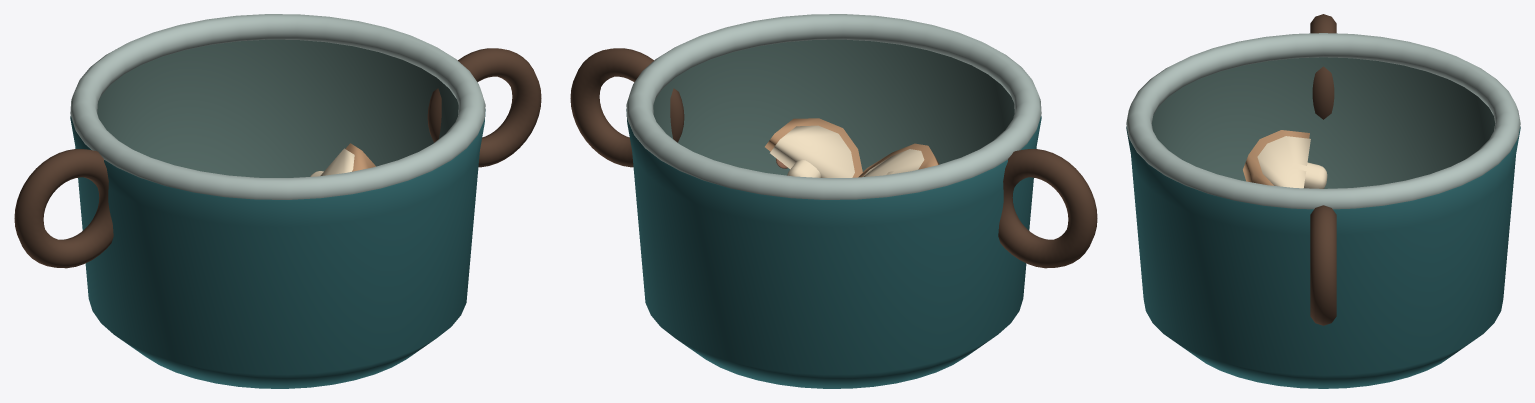
File: pot-mushroom.obj
The picture shows the model from 3 angles, left to right: view 1: azimuth 30°, elevation 25°; view 2: azimuth 150°, elevation 25°; view 3: azimuth 270°, elevation 25°; orthographic projection. The views are drawn at different scales.
Visible parts, largest first — view 1: pot-mushroom_teal, pot-mushroom_darkMetal, pot-mushroom_metal, pot-mushroom_cocoa, pot-mushroom_mushroomFlesh; view 2: pot-mushroom_teal, pot-mushroom_darkMetal, pot-mushroom_metal, pot-mushroom_cocoa, pot-mushroom_mushroomFlesh, pot-mushroom_mushroom; view 3: pot-mushroom_teal, pot-mushroom_darkMetal, pot-mushroom_metal, pot-mushroom_cocoa, pot-mushroom_mushroomFlesh, pot-mushroom_mushroom.
Boxes of the visible parts, bbox=[...] form: pot-mushroom_teal: bbox=[70, 109, 485, 388]; pot-mushroom_darkMetal: bbox=[97, 39, 458, 177]; pot-mushroom_metal: bbox=[70, 14, 485, 199]; pot-mushroom_cocoa: bbox=[14, 48, 541, 268]; pot-mushroom_mushroomFlesh: bbox=[310, 148, 354, 176]; pot-mushroom_teal: bbox=[626, 109, 1041, 388]; pot-mushroom_darkMetal: bbox=[653, 39, 1014, 175]; pot-mushroom_metal: bbox=[626, 14, 1041, 199]; pot-mushroom_cocoa: bbox=[570, 48, 1097, 268]; pot-mushroom_mushroomFlesh: bbox=[770, 125, 924, 177]; pot-mushroom_mushroom: bbox=[765, 118, 939, 177]; pot-mushroom_teal: bbox=[1126, 126, 1520, 388]; pot-mushroom_darkMetal: bbox=[1151, 57, 1495, 188]; pot-mushroom_metal: bbox=[1126, 33, 1520, 209]; pot-mushroom_cocoa: bbox=[1310, 14, 1336, 325]; pot-mushroom_mushroomFlesh: bbox=[1257, 136, 1327, 188]; pot-mushroom_mushroom: bbox=[1243, 130, 1309, 185].
Bounding box in the file's own units: 0.494 × 0.2045 × 0.34.
